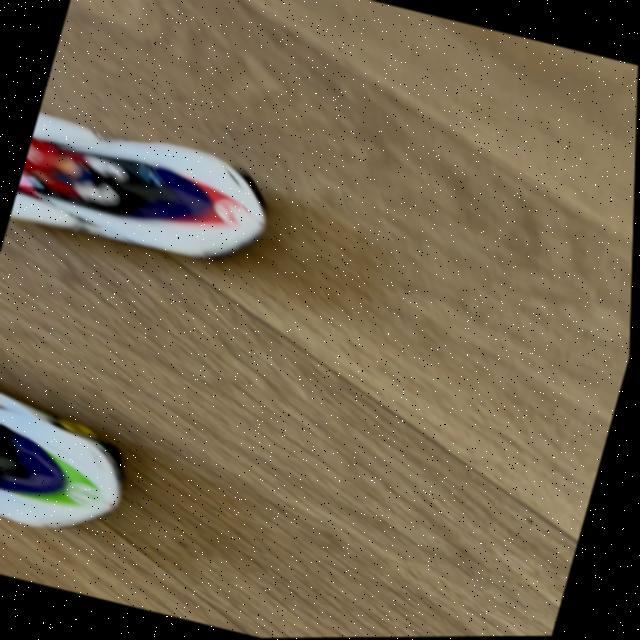mario: (6, 105, 308, 295)
yoshi: (0, 361, 168, 561)
